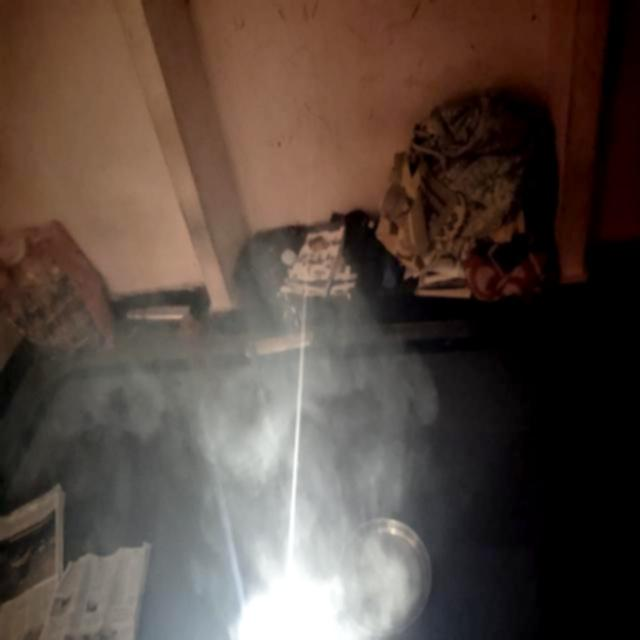smoke: (186, 421, 404, 640)
